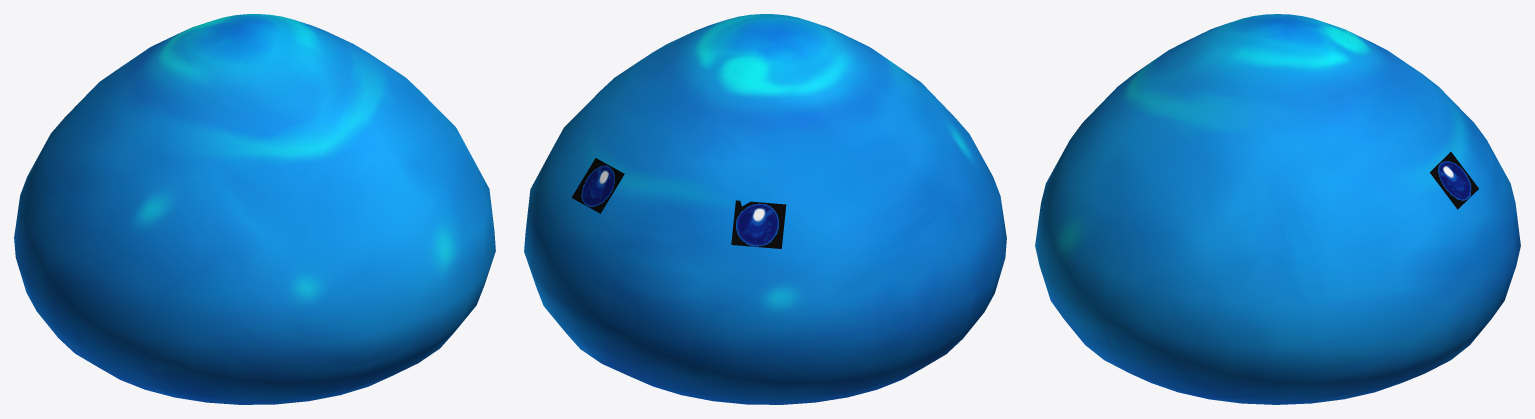
File: Slime.dae
3 renders of one model, left to right at view 1: azimuth 30°, elevation 25°; view 2: azimuth 150°, elevation 25°; view 3: azimuth 270°, elevation 25°, orthographic.
Parts seen in each view (by area): view 1: Slime.001; view 2: Slime.001; view 3: Slime.001.
Part boxes in pixels (x1,y1,x2,y2): Slime.001: (14,14,495,404); Slime.001: (524,14,1006,404); Slime.001: (1035,14,1520,404).
Size of the model in its own units: 1.94 by 1.94 by 1.4.
